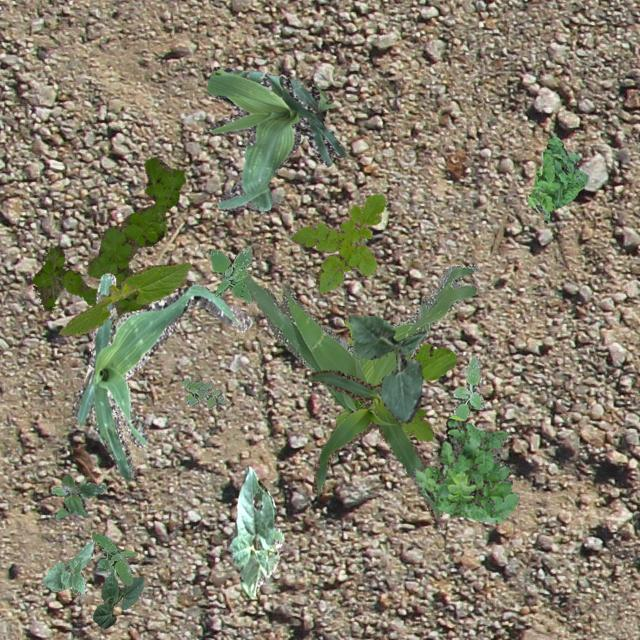crop: (74, 272, 250, 480), (308, 368, 442, 518), (206, 66, 344, 210), (58, 262, 190, 334), (348, 314, 424, 422), (225, 466, 282, 598), (92, 566, 144, 628), (40, 538, 94, 594)
weed: (242, 264, 476, 412), (32, 156, 185, 314), (335, 312, 455, 440), (410, 414, 518, 522), (292, 194, 386, 292), (526, 134, 588, 222), (50, 472, 106, 520), (208, 245, 252, 302), (92, 532, 136, 584), (452, 354, 484, 420), (182, 376, 225, 408)
